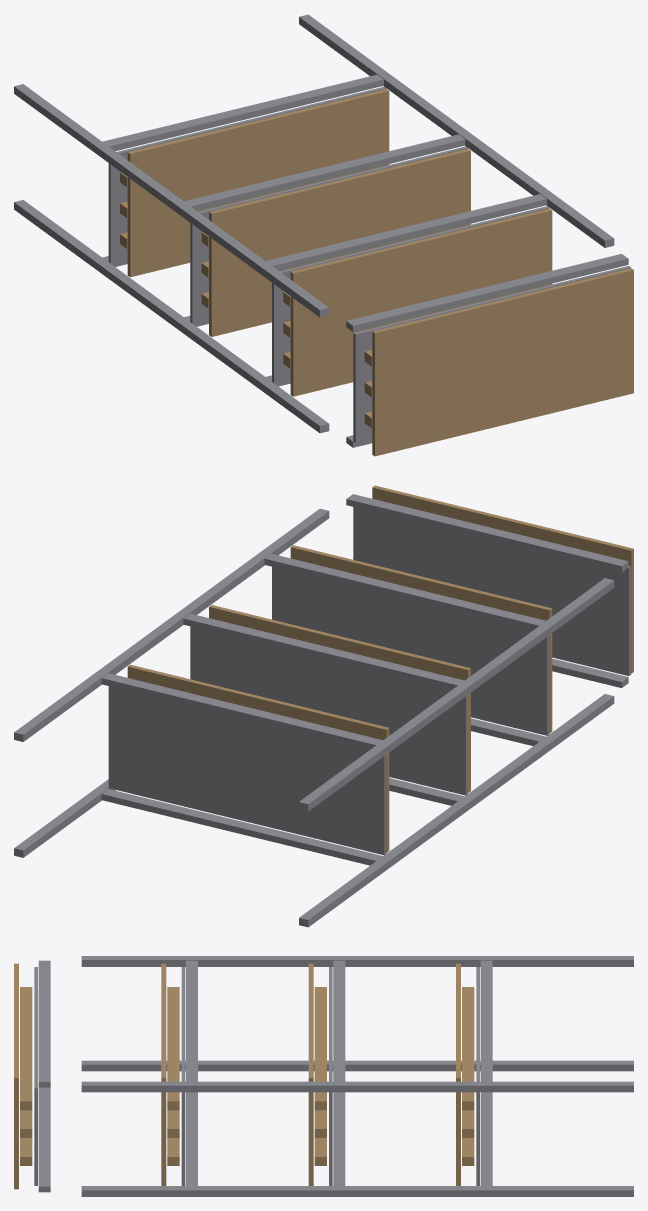
File: shelf_with_pallet.glb
3 views of the same model, one above another, from view 1: azimuth 30°, elevation 25°; view 2: azimuth 150°, elevation 25°; view 3: azimuth 270°, elevation 25° (orthographic). The views are drawn at different scales.
Parts seen in each view (by area): view 1: world; view 2: world; view 3: world.
Boxes of the visible parts, <box> form: world: <box>14,14,633,456</box>; world: <box>14,485,633,927</box>; world: <box>14,956,633,1196</box>.
Size of the model in its own units: 2.5 by 1 by 5.05.
